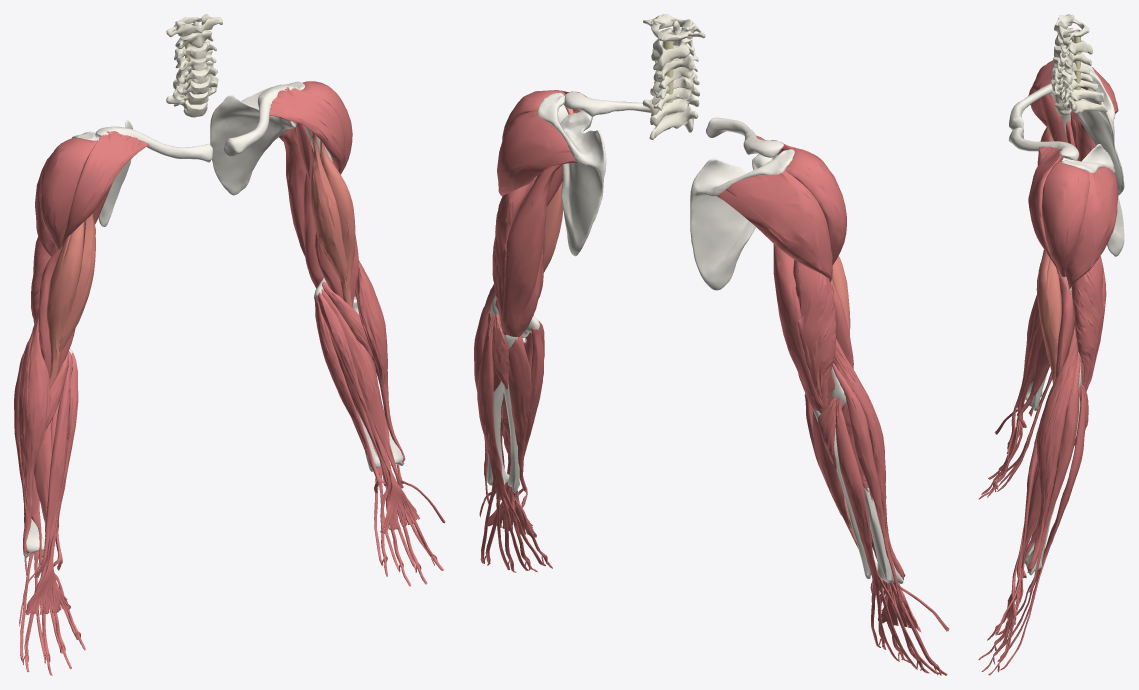
Rendered from body_mni.glb.
3 views of the same model, side by side, from view 1: azimuth 30°, elevation 25°; view 2: azimuth 150°, elevation 25°; view 3: azimuth 270°, elevation 25° (orthographic). The views are drawn at different scales.
Parts seen in each view (by area): view 1: muscles_R, muscles_L, bones, biceps_R, biceps_L, vertebrae; view 2: muscles_R, muscles_L, bones, vertebrae, biceps_L; view 3: muscles_L, muscles_R, bones, vertebrae, biceps_L.
Part boxes in pixels (x1,y1,x2,y2): muscles_R: [14, 131, 148, 675]; muscles_L: [269, 81, 445, 586]; bones: [23, 81, 403, 557]; biceps_R: [47, 213, 95, 387]; biceps_L: [310, 130, 355, 308]; vertebrae: [166, 14, 222, 117]; muscles_R: [717, 135, 949, 675]; muscles_L: [474, 90, 586, 572]; bones: [484, 92, 903, 583]; vertebrae: [642, 14, 705, 139]; biceps_L: [543, 103, 580, 272]; muscles_L: [978, 146, 1118, 675]; muscles_R: [978, 60, 1118, 499]; bones: [1008, 62, 1124, 575]; vertebrae: [1051, 14, 1107, 115]; biceps_L: [1037, 249, 1061, 384].
Size of the model in its own units: 12.56 by 16.32 by 3.84.
